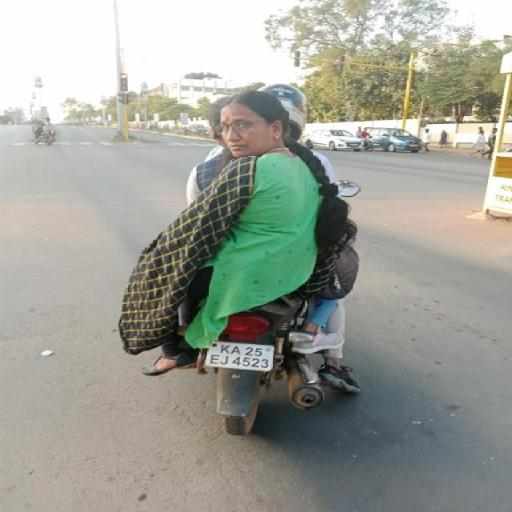tripple riding: (112, 80, 379, 326)
